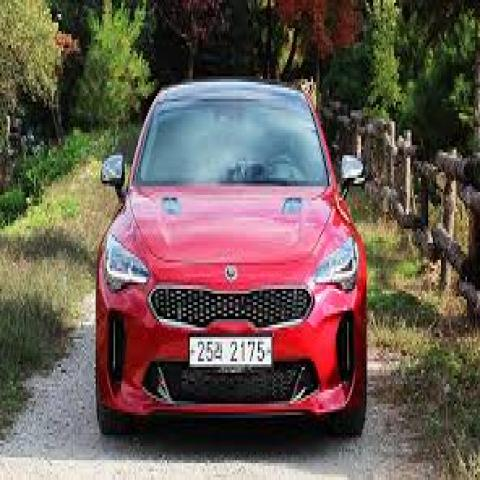LP: (186, 329, 274, 373)
